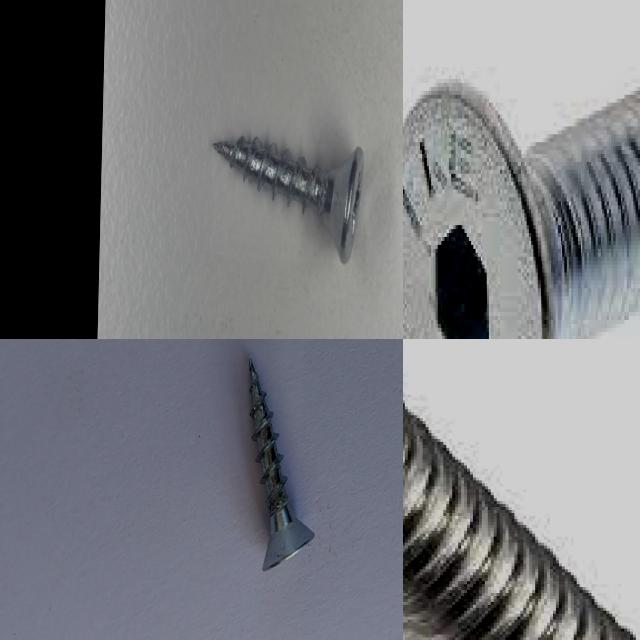Screw: (403, 83, 640, 339), (403, 407, 640, 640), (213, 136, 364, 263), (249, 358, 315, 571)
